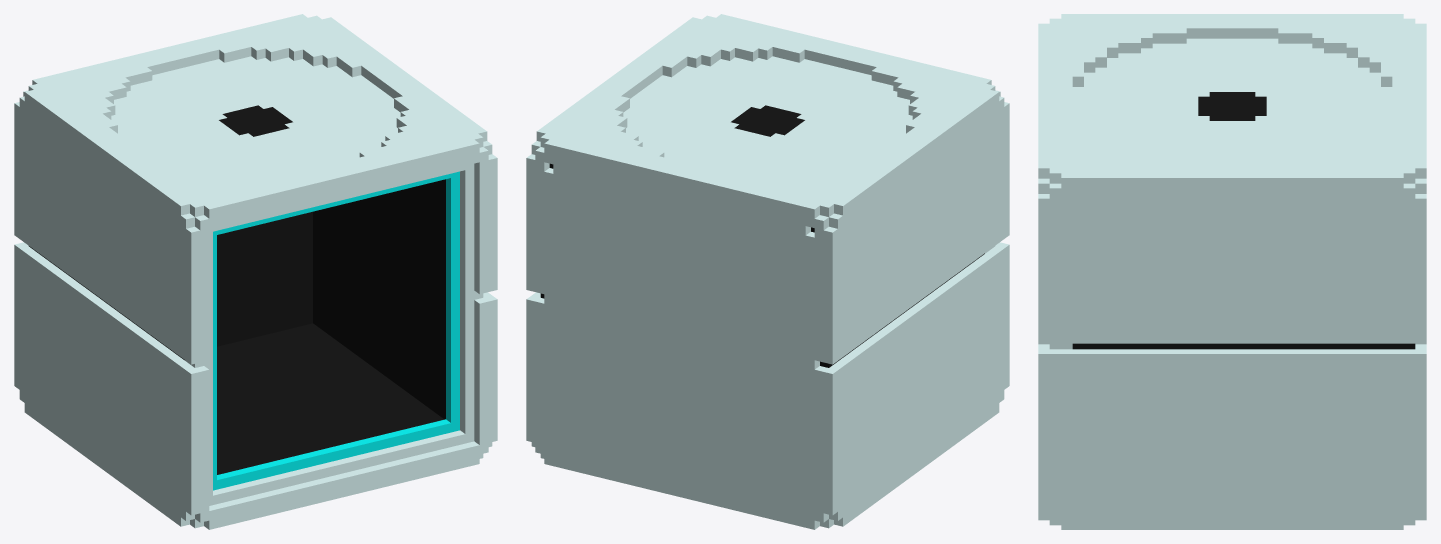
The model's file is SpaceHat.obj.
The picture shows the model from 3 angles, left to right: view 1: azimuth 30°, elevation 25°; view 2: azimuth 150°, elevation 25°; view 3: azimuth 270°, elevation 25°; orthographic projection. The views are drawn at different scales.
Visible parts, largest first — view 1: SpaceHat; view 2: SpaceHat; view 3: SpaceHat.
Boxes of the visible parts, left/top/right/bottom form: SpaceHat: left=14, top=14, right=497, bottom=529; SpaceHat: left=526, top=14, right=1009, bottom=529; SpaceHat: left=1038, top=14, right=1426, bottom=529.
Size of the model in its own units: 34 by 34 by 34.
Materials: 1 (1 with a texture image).
